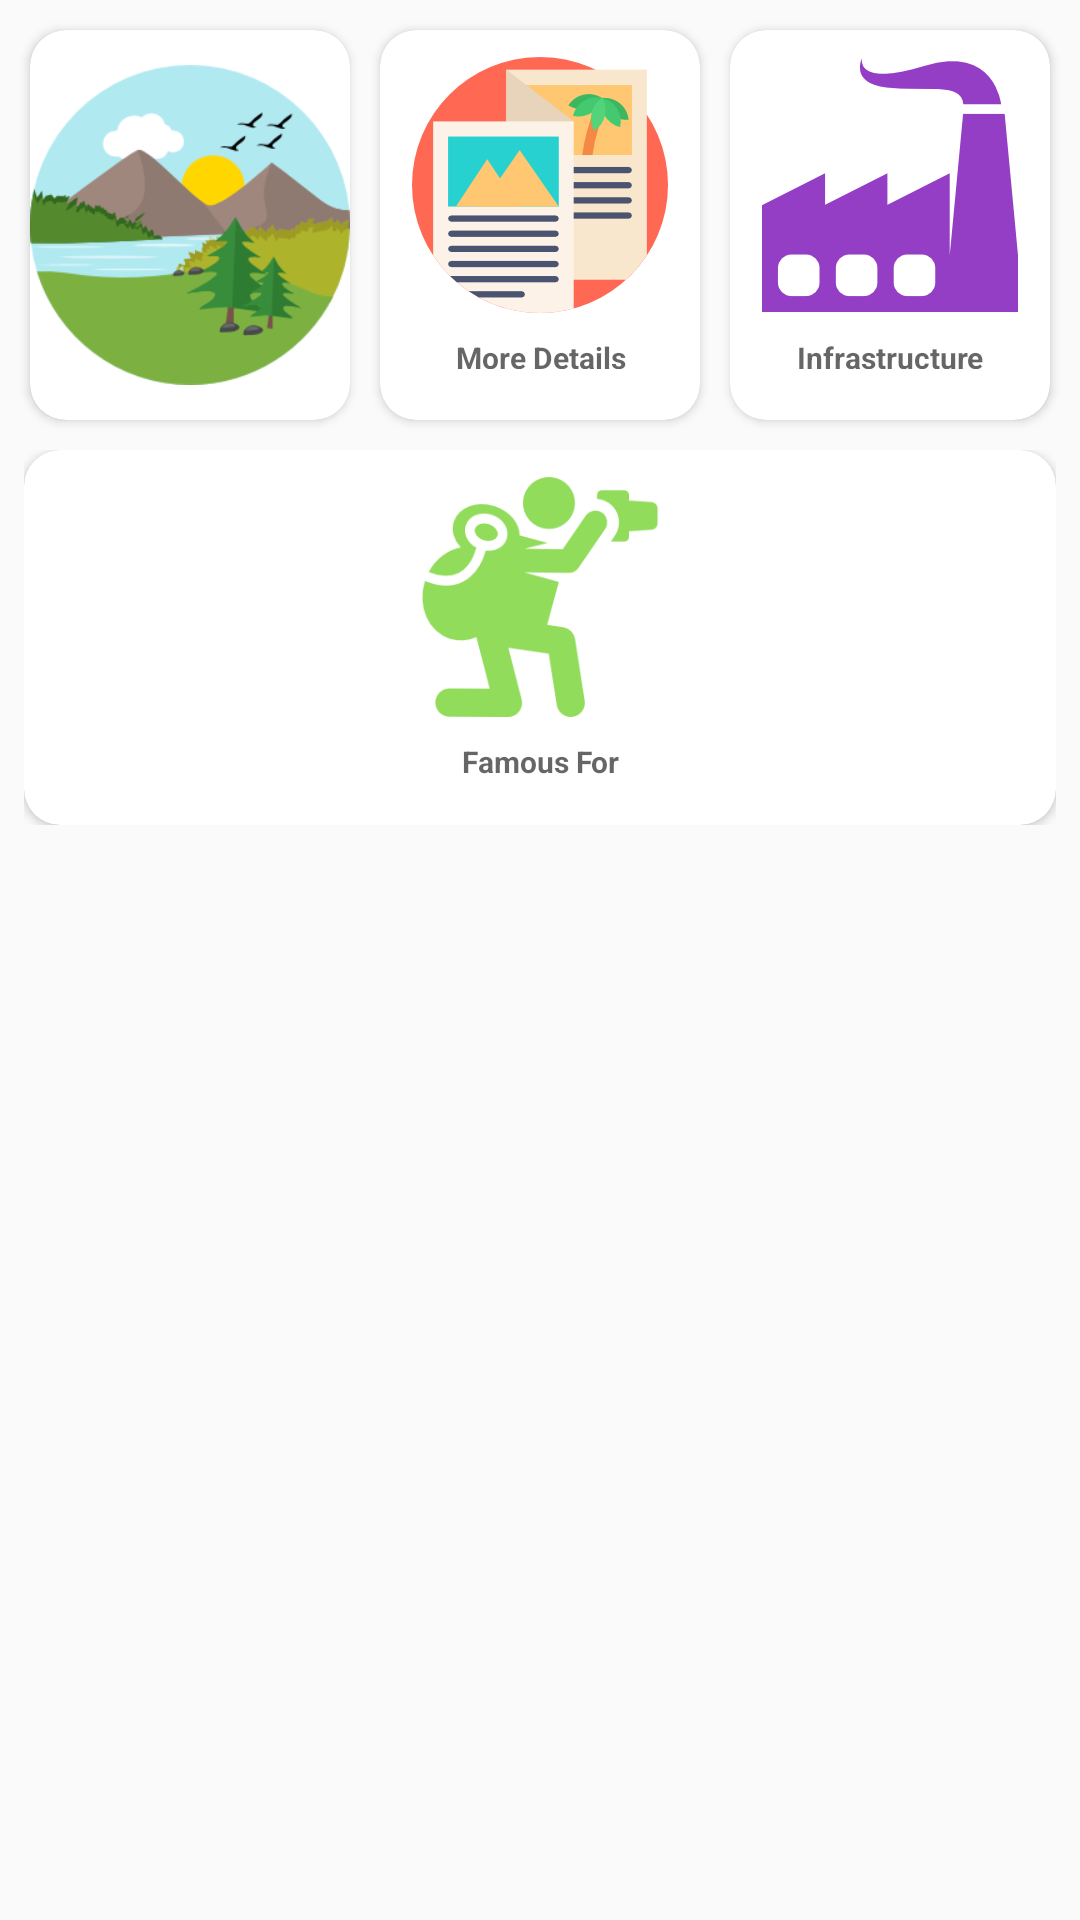

Screen size 1080×1920. Icon name, then its center in pixels as [x,y]:
natural resources: [190,225]
